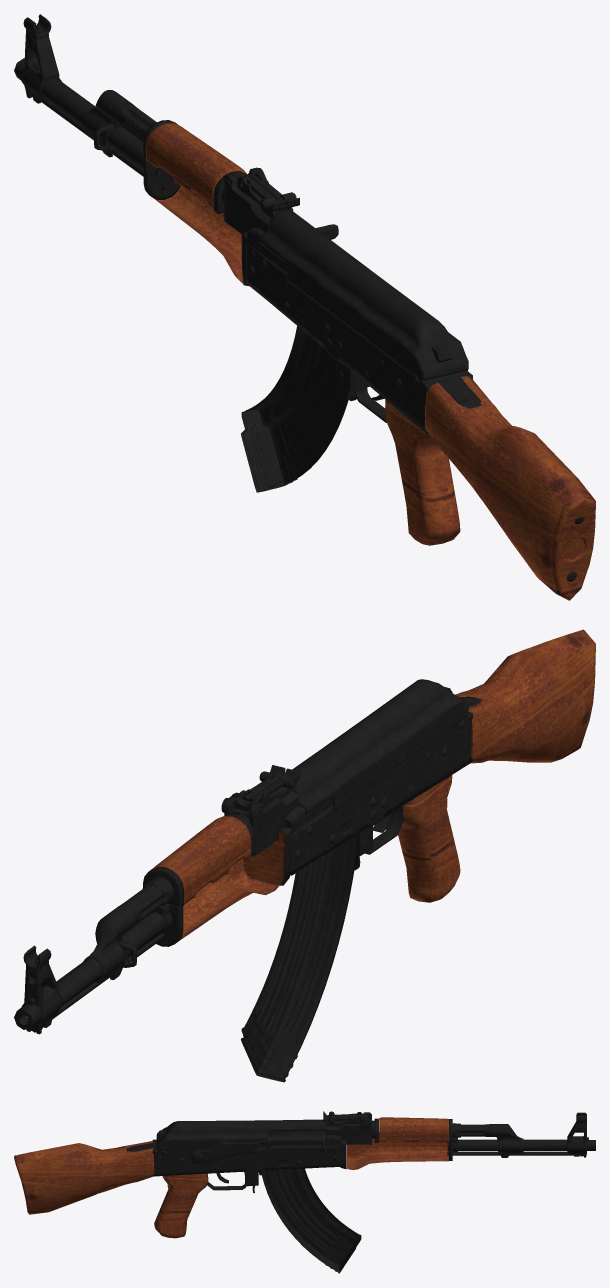
The picture shows the model from 3 angles, top to bottom: view 1: azimuth 30°, elevation 25°; view 2: azimuth 150°, elevation 25°; view 3: azimuth 270°, elevation 25°; orthographic projection. The views are drawn at different scales.
Parts seen in each view (by area): view 1: ak47; view 2: ak47; view 3: ak47.
Boxes of the visible parts, <box> form: ak47: <box>14,14,595,600</box>; ak47: <box>14,629,595,1082</box>; ak47: <box>14,1111,595,1273</box>.
Size of the model in its own units: 0.0707 by 0.2605 by 0.8799.
Materials: 2 (2 with a texture image).
